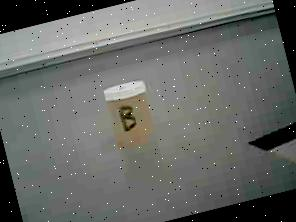Bottle B: (95, 71, 166, 155)
